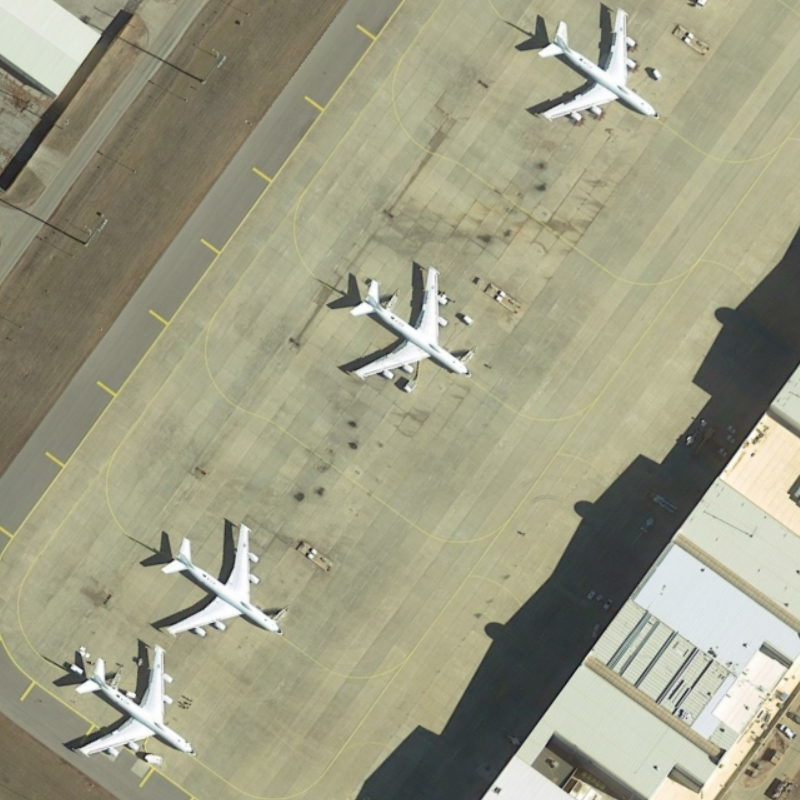A11: (333, 257, 478, 389), (529, 1, 665, 139), (63, 637, 199, 772), (146, 515, 291, 641)
